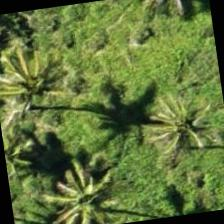Kelapa_Sawit: (132, 77, 223, 180), (0, 33, 77, 134), (34, 152, 134, 223)
